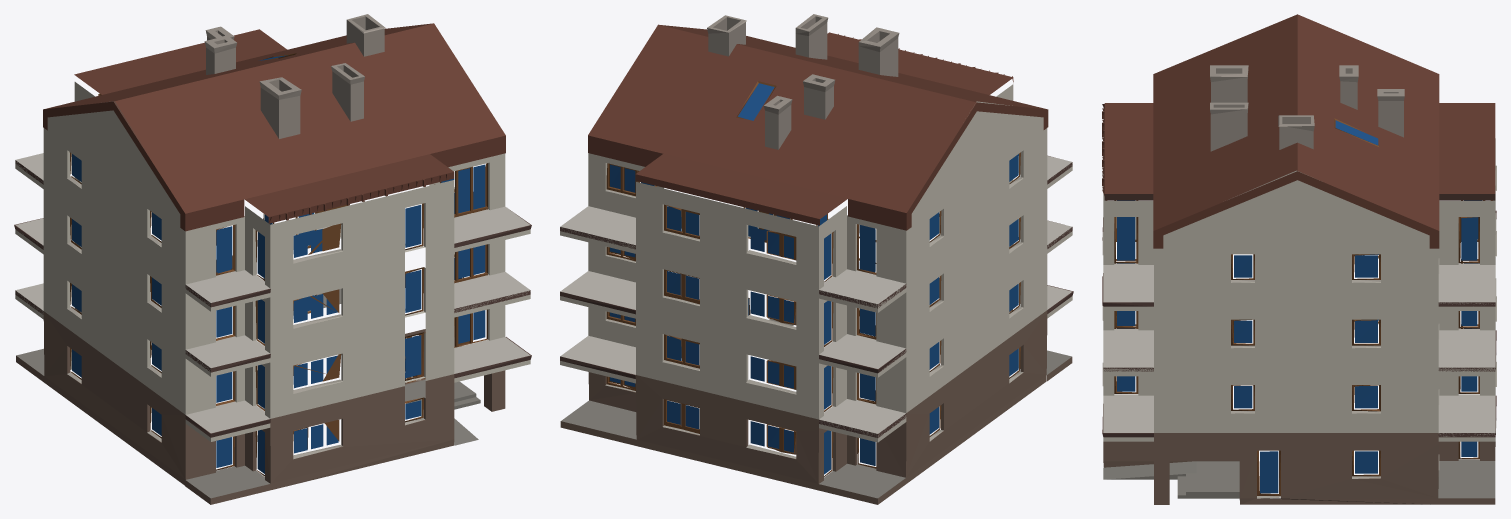
Rendered from maison-ville.glb.
3 renders of one model, left to right at view 1: azimuth 30°, elevation 25°; view 2: azimuth 150°, elevation 25°; view 3: azimuth 270°, elevation 25°, orthographic.
Bounding box in the file's own units: 6.09 × 6.34 × 6.46.
